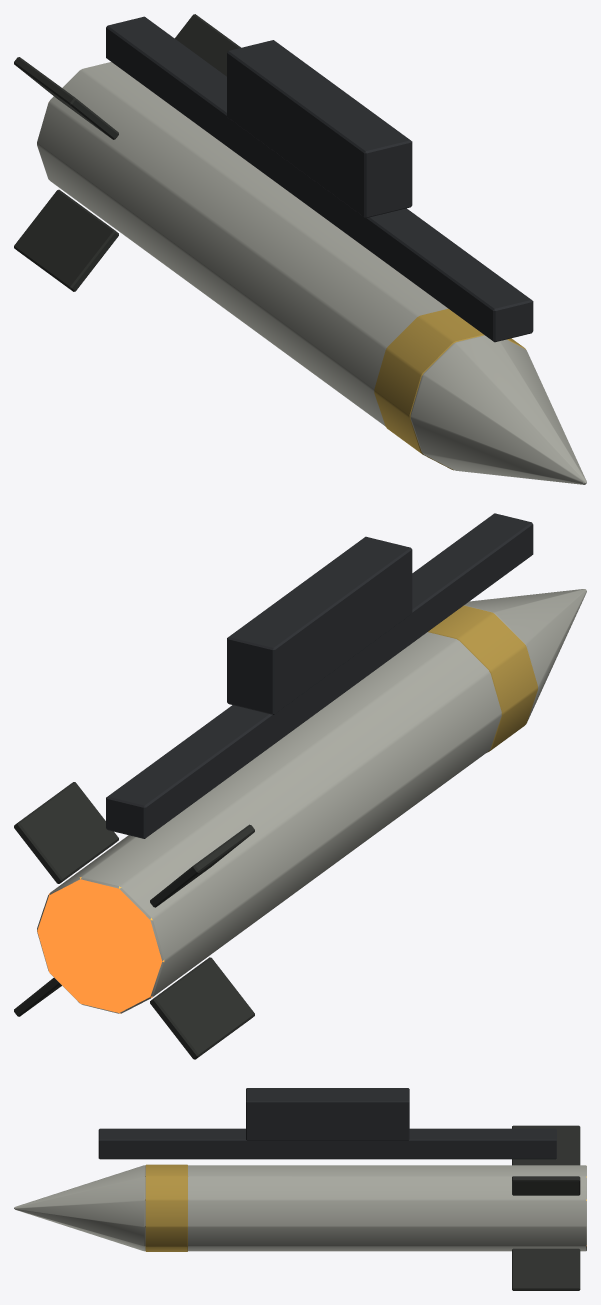
Rendered from Rack_ClusterMissile.fbx.
3 views of the same model, one above another, from view 1: azimuth 30°, elevation 25°; view 2: azimuth 150°, elevation 25°; view 3: azimuth 270°, elevation 25° (orthographic). The views are drawn at different scales.
Visible parts, largest first — view 1: Rack_ClusterMissile; view 2: Rack_ClusterMissile; view 3: Rack_ClusterMissile.
Part boxes in pixels (x1=…): Rack_ClusterMissile: x1=14, y1=14, x2=586, y2=484; Rack_ClusterMissile: x1=14, y1=513, x2=586, y2=1059; Rack_ClusterMissile: x1=14, y1=1088, x2=586, y2=1290.
Bounding box in the file's own units: 0.4613 × 0.6907 × 2.1.
